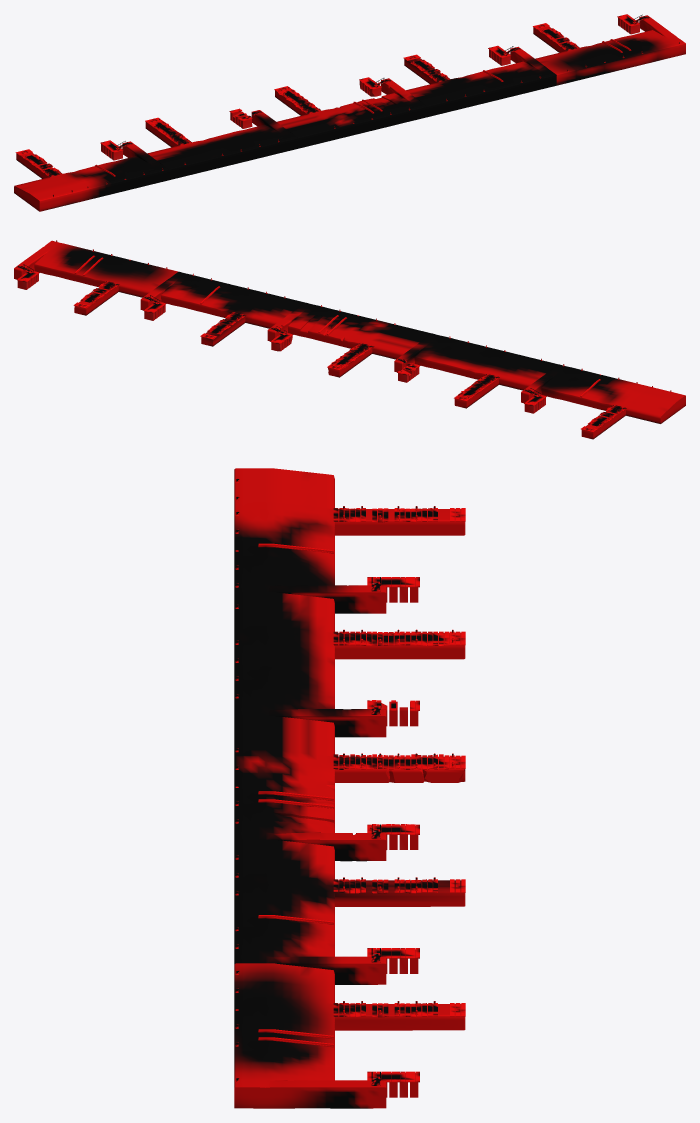
The model's file is SM_Pier.fbx.
3 renders of one model, top to bottom at view 1: azimuth 30°, elevation 25°; view 2: azimuth 150°, elevation 25°; view 3: azimuth 270°, elevation 25°, orthographic. The views are drawn at different scales.
Parts seen in each view (by area): view 1: SM_Pier_5, SM_Pier_4, SM_Pier_2, SM_Pier_3, SM_Pier_1, SM_Bridges_1, SM_Bridges_7, SM_Bridges_3, SM_Bridges_9, SM_Bridges_5; view 2: SM_Pier_5, SM_Pier_4, SM_Pier_2, SM_Pier_3, SM_Pier_1, SM_Bridges_1, SM_Bridges_7, SM_Bridges_5, SM_Bridges_9, SM_Bridges_3; view 3: SM_Pier_3, SM_Pier_4, SM_Pier_5, SM_Pier_2, SM_Pier_1, SM_Bridges_7, SM_Bridges_1, SM_Bridges_9, SM_Bridges_5, SM_Bridges_3.
Boxes of the visible parts, <box> form: SM_Pier_5: <box>14,141,168,211</box>; SM_Pier_4: <box>145,110,298,180</box>; SM_Pier_2: <box>404,46,556,116</box>; SM_Pier_3: <box>533,15,685,85</box>; SM_Pier_1: <box>275,78,427,148</box>; SM_Bridges_1: <box>274,86,320,114</box>; SM_Bridges_7: <box>145,117,191,145</box>; SM_Bridges_3: <box>403,54,450,82</box>; SM_Bridges_9: <box>15,149,62,177</box>; SM_Bridges_5: <box>533,23,579,50</box>; SM_Pier_5: <box>521,364,685,439</box>; SM_Pier_4: <box>394,333,558,408</box>; SM_Pier_2: <box>140,271,304,346</box>; SM_Pier_3: <box>14,240,177,315</box>; SM_Pier_1: <box>267,302,431,377</box>; SM_Bridges_1: <box>327,343,374,370</box>; SM_Bridges_7: <box>454,374,499,401</box>; SM_Bridges_5: <box>73,281,119,308</box>; SM_Bridges_9: <box>581,405,626,432</box>; SM_Bridges_3: <box>200,312,246,339</box>; SM_Pier_3: <box>234,963,465,1108</box>; SM_Pier_4: <box>234,592,465,737</box>; SM_Pier_5: <box>234,468,465,613</box>; SM_Pier_2: <box>234,839,465,984</box>; SM_Pier_1: <box>234,716,465,861</box>; SM_Bridges_7: <box>333,631,465,646</box>; SM_Bridges_1: <box>333,754,465,769</box>; SM_Bridges_9: <box>333,508,465,522</box>; SM_Bridges_5: <box>333,1003,465,1017</box>; SM_Bridges_3: <box>333,879,465,893</box>.
Size of the model in its own units: 31036 by 643 by 4907.
